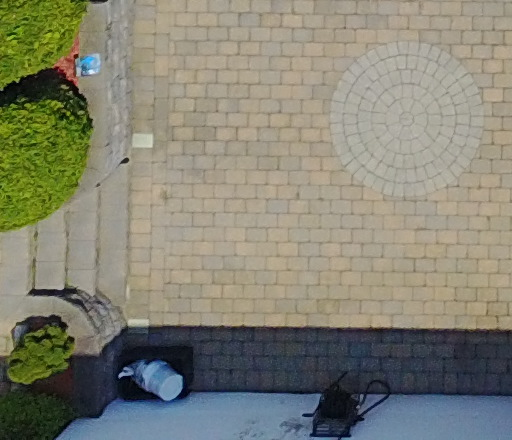container: (129, 350, 195, 413)
